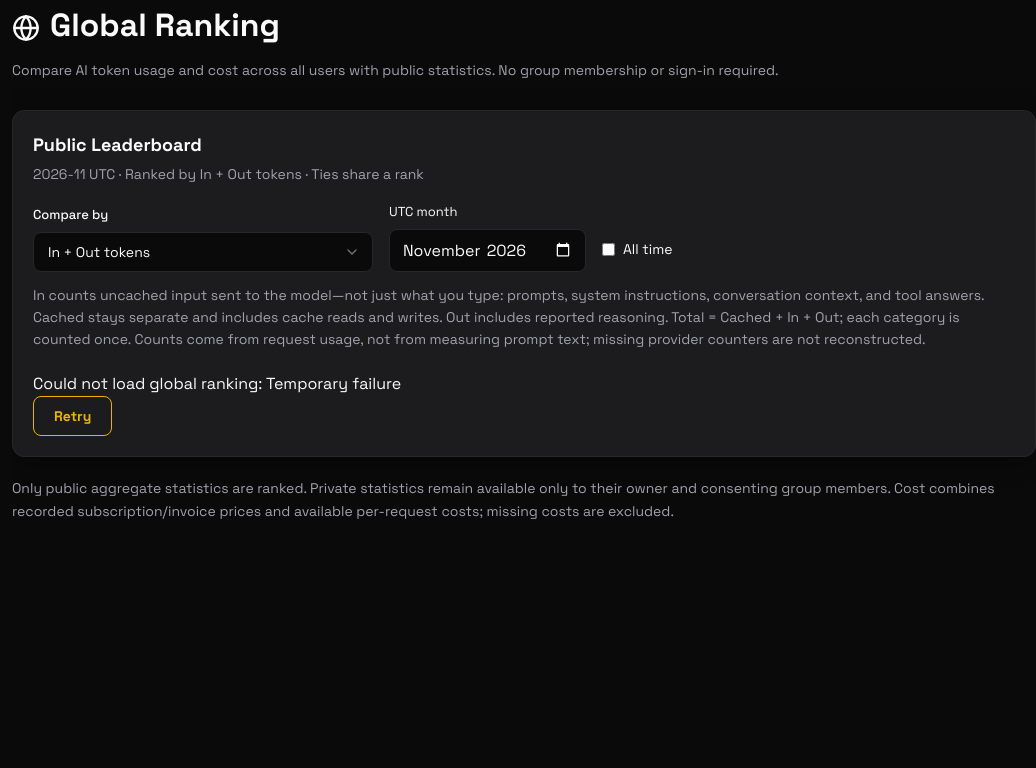
Scenario: public global ranking › shows retryable errors rather than an empty or stale successful leaderboard
Expected: the message shows "Temporary failure", [266,373,401,394]
Click the button "Retry": coordinates (73, 416) [33,396,112,436]
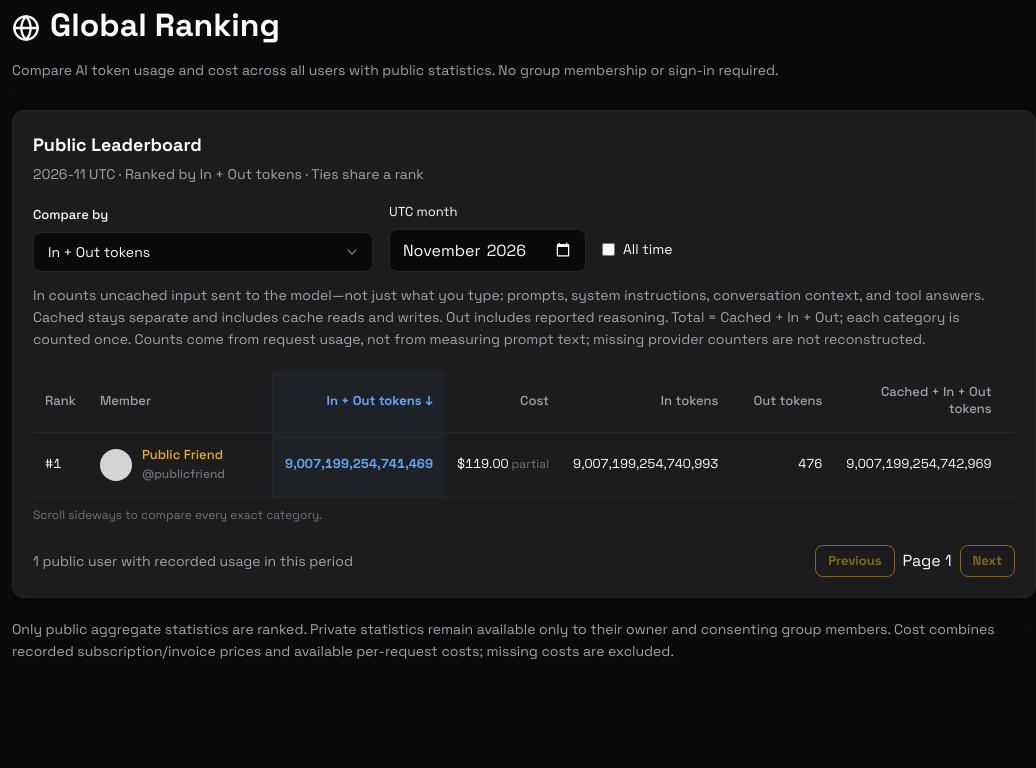
Expected: the link "Public Friend" is shown, [142,446,223,462]
